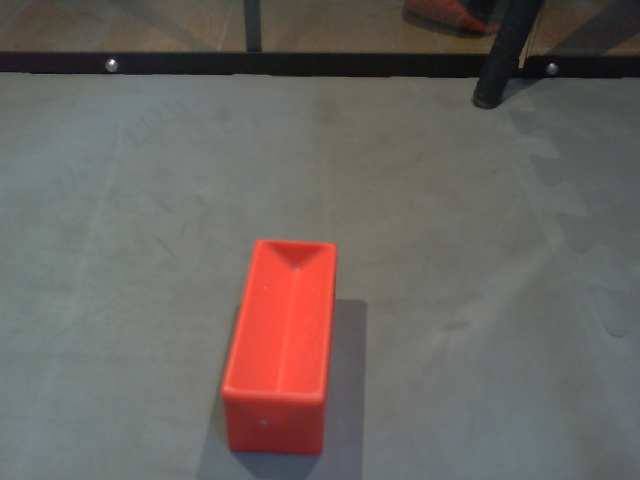RedSample: (220, 236, 340, 461)
